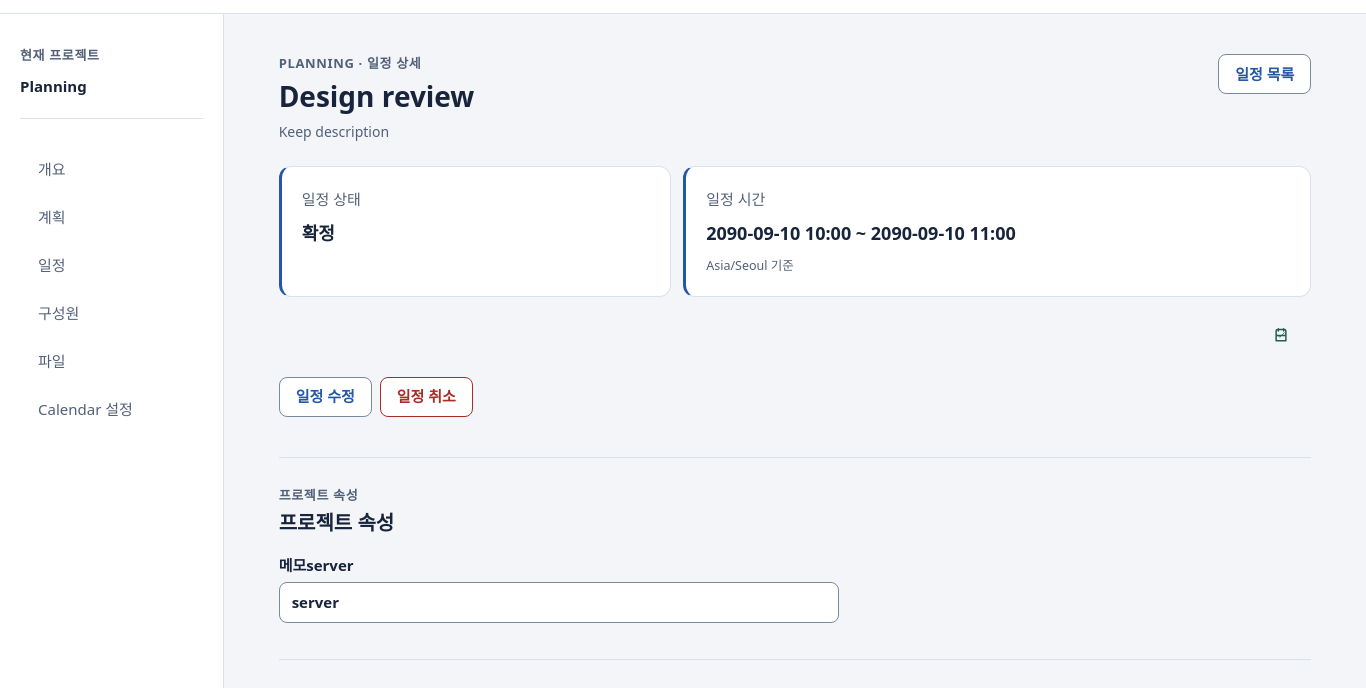
Test: custom-only Detail Cancel asks before discarding and keeps the draft when declined
Replace the text in the field labelled "메모" with "draft" at point(559, 603), box [279, 582, 839, 623]
(page scrolled)
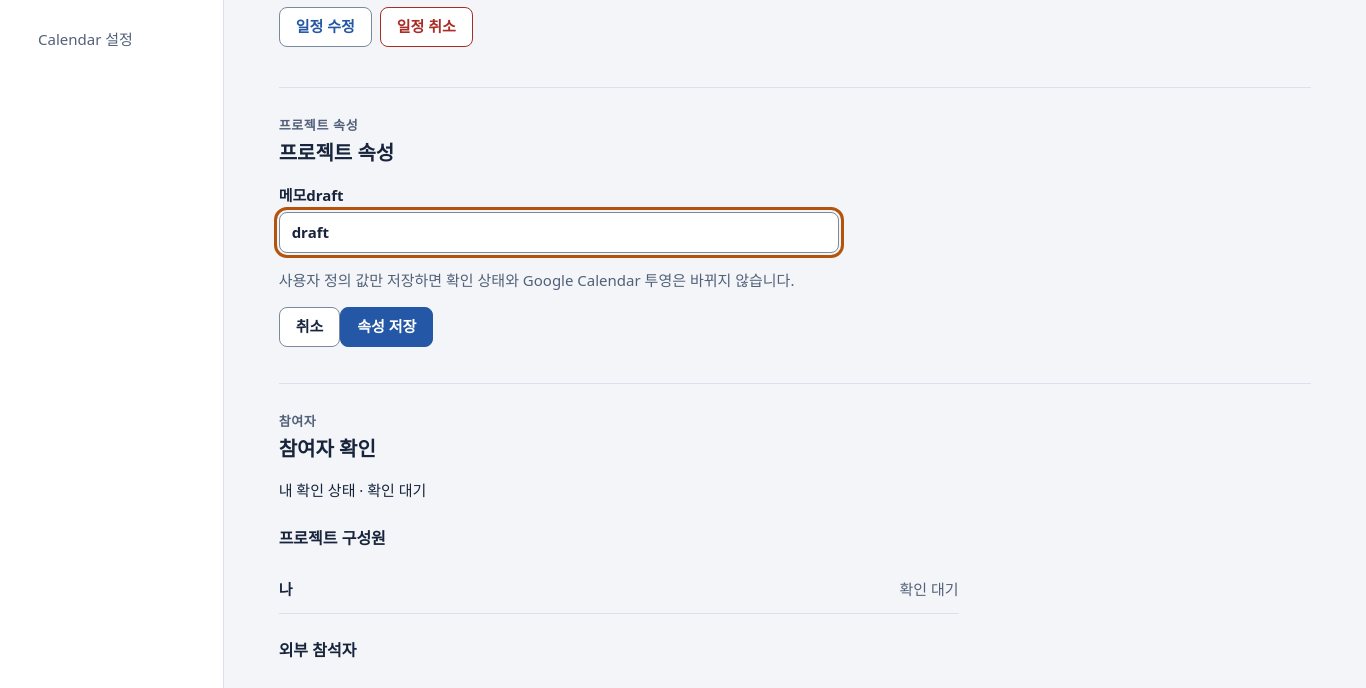
Click the button "취소" at point(309, 327), box [279, 307, 340, 347]
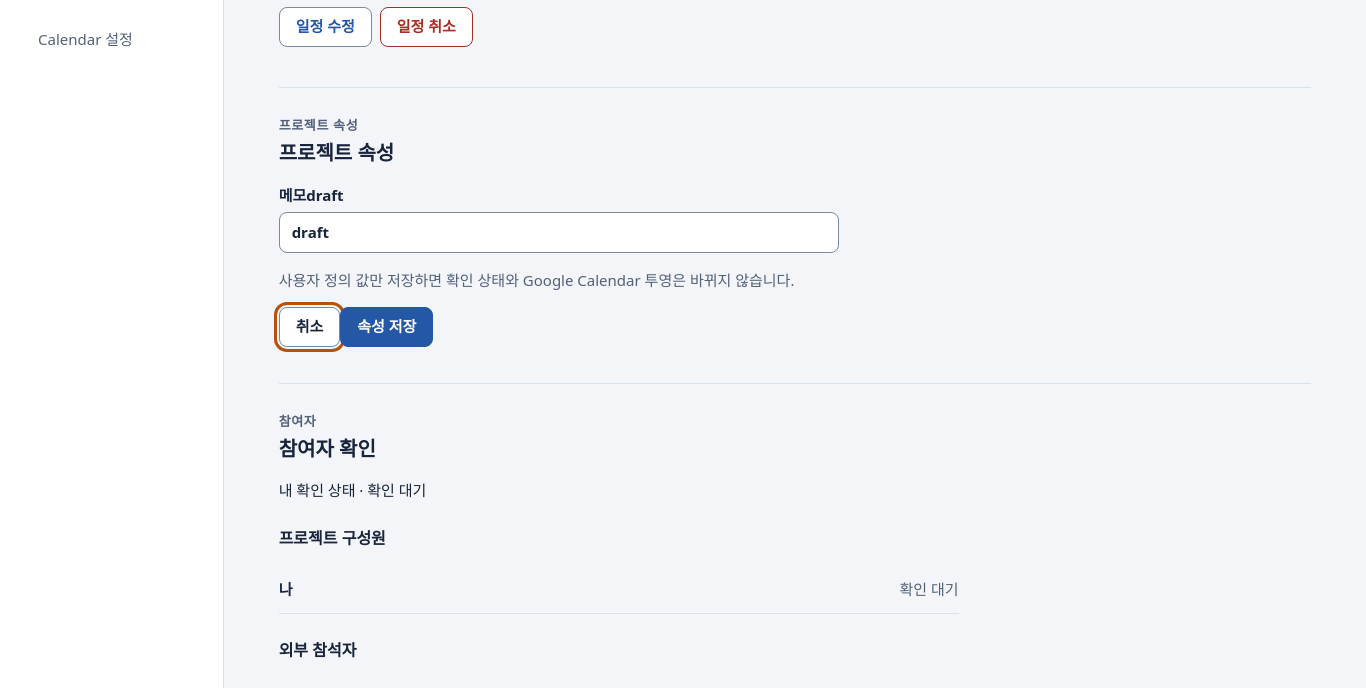
Click the button "취소" at point(309, 327), box [279, 307, 340, 347]
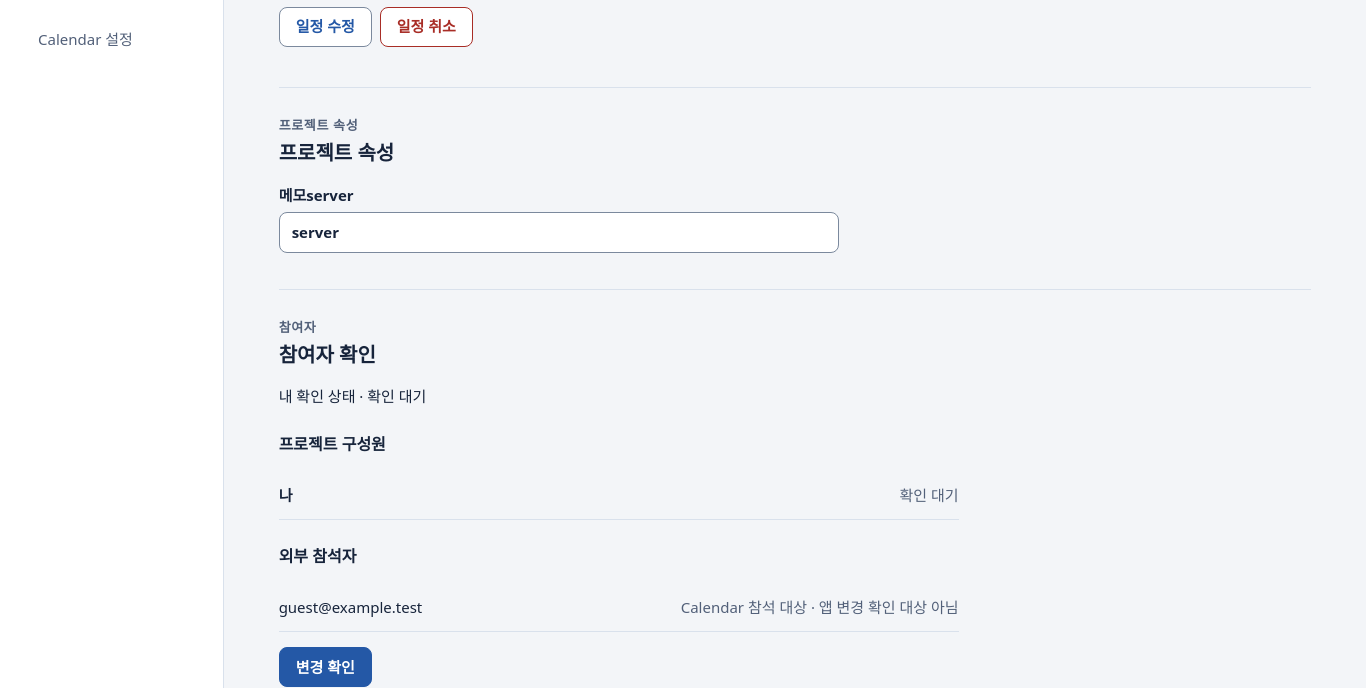
Now the field labelled "메모" holds "server", box [279, 212, 839, 253]
